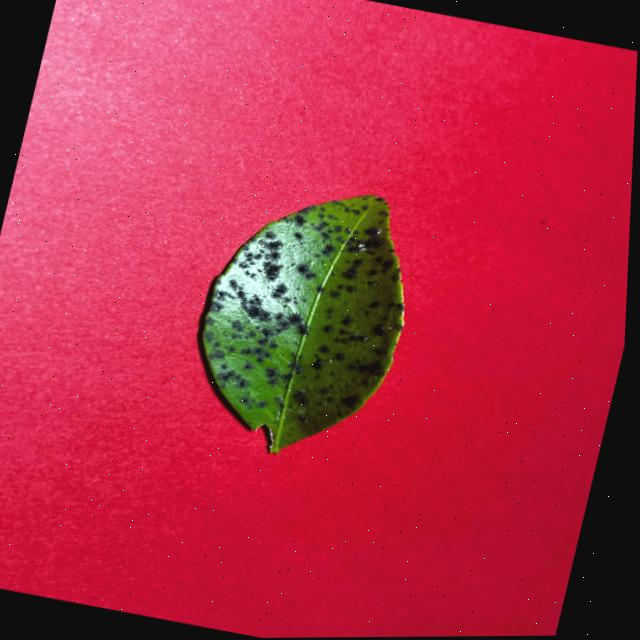sooty_mold: (203, 195, 404, 453)
